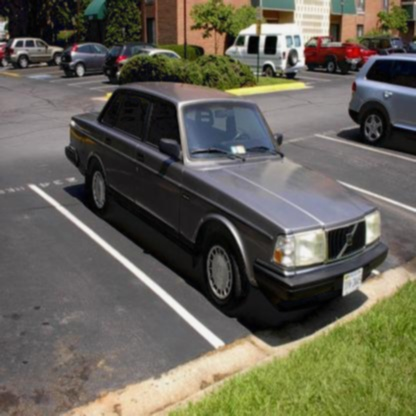Vehicle: (65, 80, 392, 331)
